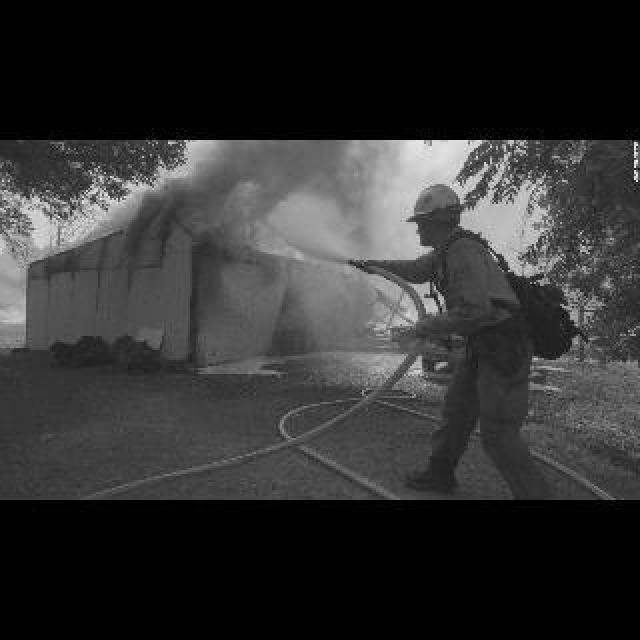Fire: (222, 196, 310, 254), (372, 292, 422, 328), (28, 254, 50, 260)
Smoke: (158, 142, 404, 208)
